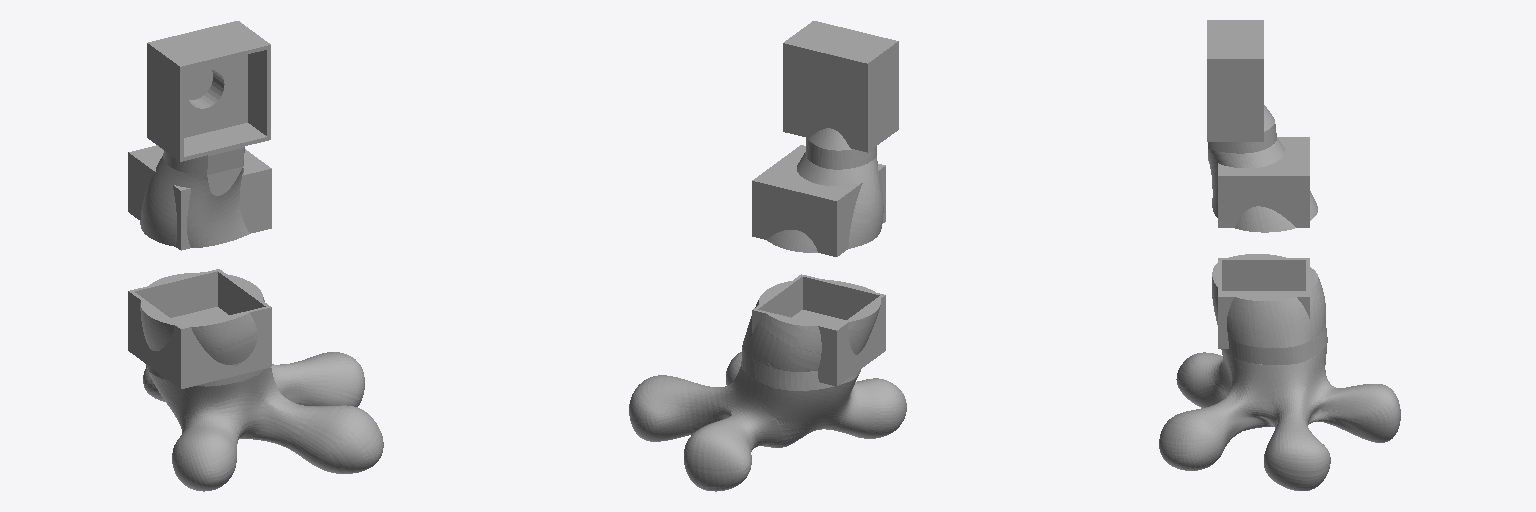
URDF robot description (FrogBot1_top-FrogBot1-y-2_bottom-FrogBot1-y-2):
<?xml version="1.0" ?>
<robot name="FrogBot1_top-FrogBot1-y-2_bottom-FrogBot1-y-2">

<material name="pla_5_percent_infill">
  <color rgba="0.700 0.700 0.700 1.000"/>
</material>

<link name="base_link">
  <inertial>
    <origin xyz="0 0 0" rpy="0 0 0"/>
    <mass value="1.4103143072721238"/>
    <inertia ixx="0.004671865419262023" iyy="0.01102984328633242" izz="0.011972094032648898" ixy="0.00015185420958179873" iyz="8.583160306759328e-05" ixz="-0.0012132770853355082"/>
  </inertial>
  <visual>
    <origin xyz="0 0 0" rpy="0 0 0"/>
    <geometry>
      <mesh filename="simple_meshes/base_link.stl" scale="0.001 0.001 0.001"/>
    </geometry>
    <material name="pla_5_percent_infill"/>
  </visual>
  <collision>
    <origin xyz="0 0 0" rpy="0 0 0"/>
    <geometry>
      <mesh filename="simple_meshes/base_link.stl" scale="0.001 0.001 0.001"/>
    </geometry>
  </collision>
</link>

<link name="body_1_0_1">
  <inertial>
    <origin xyz="-0.045735 -0.109621 -0.00462" rpy="0 0 0"/>
    <mass value="0.03484160030997429"/>
    <inertia ixx="2.903697898275757e-05" iyy="3.104325005473165e-05" izz="1.3532378195367945e-05" ixy="-4.11931829958159e-07" iyz="2.4187383565985482e-06" ixz="4.625253965977592e-07"/>
  </inertial>
  <visual>
    <origin xyz="-0.045735 -0.109621 -0.00462" rpy="0 0 0"/>
    <geometry>
      <mesh filename="simple_meshes/body_1_0_1.stl" scale="0.001 0.001 0.001"/>
    </geometry>
    <material name="pla_5_percent_infill"/>
  </visual>
  <collision>
    <origin xyz="-0.045735 -0.109621 -0.00462" rpy="0 0 0"/>
    <geometry>
      <mesh filename="simple_meshes/body_1_0_1.stl" scale="0.001 0.001 0.001"/>
    </geometry>
  </collision>
</link>

<link name="body_1_1_1">
  <inertial>
    <origin xyz="0.086489 -0.109621 -0.018802" rpy="0 0 0"/>
    <mass value="0.06148854294203133"/>
    <inertia ixx="5.855490218398588e-05" iyy="6.613275433003084e-05" izz="3.81438148724521e-05" ixy="5.75078924560735e-06" iyz="1.1027810340099209e-05" ixz="-1.7049103165392508e-05"/>
  </inertial>
  <visual>
    <origin xyz="0.086489 -0.109621 -0.018802" rpy="0 0 0"/>
    <geometry>
      <mesh filename="simple_meshes/body_1_1_1.stl" scale="0.001 0.001 0.001"/>
    </geometry>
    <material name="pla_5_percent_infill"/>
  </visual>
  <collision>
    <origin xyz="0.086489 -0.109621 -0.018802" rpy="0 0 0"/>
    <geometry>
      <mesh filename="simple_meshes/body_1_1_1.stl" scale="0.001 0.001 0.001"/>
    </geometry>
  </collision>
</link>

<link name="body_1_2_1">
  <inertial>
    <origin xyz="-0.040267 0.109621 -0.027764" rpy="0 0 0"/>
    <mass value="0.046522195302190976"/>
    <inertia ixx="6.03733340548251e-05" iyy="5.952994351581645e-05" izz="2.1298690794725782e-05" ixy="5.754947808993033e-07" iyz="-1.1443405405403087e-05" ixz="-1.6904263786305624e-07"/>
  </inertial>
  <visual>
    <origin xyz="-0.040267 0.109621 -0.027764" rpy="0 0 0"/>
    <geometry>
      <mesh filename="simple_meshes/body_1_2_1.stl" scale="0.001 0.001 0.001"/>
    </geometry>
    <material name="pla_5_percent_infill"/>
  </visual>
  <collision>
    <origin xyz="-0.040267 0.109621 -0.027764" rpy="0 0 0"/>
    <geometry>
      <mesh filename="simple_meshes/body_1_2_1.stl" scale="0.001 0.001 0.001"/>
    </geometry>
  </collision>
</link>

<link name="body_1_3_1">
  <inertial>
    <origin xyz="0.090407 0.109621 -0.022193" rpy="0 0 0"/>
    <mass value="0.06334451829429341"/>
    <inertia ixx="6.51772427705062e-05" iyy="7.495684636025872e-05" izz="4.2780508319036244e-05" ixy="-7.128956469788263e-06" iyz="-1.3523874840459988e-05" ixz="-2.071422252416895e-05"/>
  </inertial>
  <visual>
    <origin xyz="0.090407 0.109621 -0.022193" rpy="0 0 0"/>
    <geometry>
      <mesh filename="simple_meshes/body_1_3_1.stl" scale="0.001 0.001 0.001"/>
    </geometry>
    <material name="pla_5_percent_infill"/>
  </visual>
  <collision>
    <origin xyz="0.090407 0.109621 -0.022193" rpy="0 0 0"/>
    <geometry>
      <mesh filename="simple_meshes/body_1_3_1.stl" scale="0.001 0.001 0.001"/>
    </geometry>
  </collision>
</link>

<link name="body_2_0_1">
  <inertial>
    <origin xyz="-0.049562 -0.159797 0.085064" rpy="0 0 0"/>
    <mass value="0.09238338507746115"/>
    <inertia ixx="9.680433658144048e-05" iyy="0.00010692101717365123" izz="0.00012948061318948483" ixy="-4.585259395726779e-06" iyz="-1.2914344639219227e-06" ixz="2.3453652289436543e-05"/>
  </inertial>
  <visual>
    <origin xyz="-0.049562 -0.159797 0.085064" rpy="0 0 0"/>
    <geometry>
      <mesh filename="simple_meshes/body_2_0_1.stl" scale="0.001 0.001 0.001"/>
    </geometry>
    <material name="pla_5_percent_infill"/>
  </visual>
  <collision>
    <origin xyz="-0.049562 -0.159797 0.085064" rpy="0 0 0"/>
    <geometry>
      <mesh filename="simple_meshes/body_2_0_1.stl" scale="0.001 0.001 0.001"/>
    </geometry>
  </collision>
</link>

<link name="body_2_1_1">
  <inertial>
    <origin xyz="0.121182 -0.173952 0.085064" rpy="0 0 0"/>
    <mass value="0.09715254191378893"/>
    <inertia ixx="0.00010103337875760465" iyy="0.00010812583804075153" izz="0.00013283976961591445" ixy="1.682015658884808e-06" iyz="1.4158771556950066e-05" ixz="2.864226009702416e-05"/>
  </inertial>
  <visual>
    <origin xyz="0.121182 -0.173952 0.085064" rpy="0 0 0"/>
    <geometry>
      <mesh filename="simple_meshes/body_2_1_1.stl" scale="0.001 0.001 0.001"/>
    </geometry>
    <material name="pla_5_percent_infill"/>
  </visual>
  <collision>
    <origin xyz="0.121182 -0.173952 0.085064" rpy="0 0 0"/>
    <geometry>
      <mesh filename="simple_meshes/body_2_1_1.stl" scale="0.001 0.001 0.001"/>
    </geometry>
  </collision>
</link>

<link name="body_2_2_1">
  <inertial>
    <origin xyz="-0.04311 0.170506 0.085064" rpy="0 0 0"/>
    <mass value="0.09423382627998292"/>
    <inertia ixx="0.0001057891791990213" iyy="9.824815309707104e-05" izz="0.00013224377354452638" ixy="9.104081632083268e-07" iyz="-6.2243797675221035e-06" ixz="1.652673795358333e-05"/>
  </inertial>
  <visual>
    <origin xyz="-0.04311 0.170506 0.085064" rpy="0 0 0"/>
    <geometry>
      <mesh filename="simple_meshes/body_2_2_1.stl" scale="0.001 0.001 0.001"/>
    </geometry>
    <material name="pla_5_percent_infill"/>
  </visual>
  <collision>
    <origin xyz="-0.04311 0.170506 0.085064" rpy="0 0 0"/>
    <geometry>
      <mesh filename="simple_meshes/body_2_2_1.stl" scale="0.001 0.001 0.001"/>
    </geometry>
  </collision>
</link>

<link name="body_2_3_1">
  <inertial>
    <origin xyz="0.129712 0.175384 0.085064" rpy="0 0 0"/>
    <mass value="0.09538323554010072"/>
    <inertia ixx="0.00010818954833316866" iyy="0.0001026460488982384" izz="0.0001233985078477563" ixy="4.960638871788839e-06" iyz="-1.988995231707322e-05" ixz="2.8267705788044984e-05"/>
  </inertial>
  <visual>
    <origin xyz="0.129712 0.175384 0.085064" rpy="0 0 0"/>
    <geometry>
      <mesh filename="simple_meshes/body_2_3_1.stl" scale="0.001 0.001 0.001"/>
    </geometry>
    <material name="pla_5_percent_infill"/>
  </visual>
  <collision>
    <origin xyz="0.129712 0.175384 0.085064" rpy="0 0 0"/>
    <geometry>
      <mesh filename="simple_meshes/body_2_3_1.stl" scale="0.001 0.001 0.001"/>
    </geometry>
  </collision>
</link>

<joint name="joint_1_0" type="revolute">
  <origin xyz="0.045735 0.109621 0.00462" rpy="0 0 0"/>
  <parent link="base_link"/>
  <child link="body_1_0_1"/>
  <axis xyz="0.0 0.0 -1.0"/>
  <limit upper="1.2" lower="-1.2" effort="3.8" velocity="5.4"/>
</joint>
<transmission name="joint_1_0_tran">
  <type>transmission_interface/SimpleTransmission</type>
  <joint name="joint_1_0">
    <hardwareInterface>PositionJointInterface</hardwareInterface>
  </joint>
  <actuator name="joint_1_0_actr">
    <hardwareInterface>PositionJointInterface</hardwareInterface>
    <mechanicalReduction>1</mechanicalReduction>
  </actuator>
</transmission>

<joint name="joint_1_1" type="revolute">
  <origin xyz="-0.086489 0.109621 0.018802" rpy="0 0 0"/>
  <parent link="base_link"/>
  <child link="body_1_1_1"/>
  <axis xyz="0.0 0.0 -1.0"/>
  <limit upper="1.2" lower="-1.2" effort="3.8" velocity="5.4"/>
</joint>
<transmission name="joint_1_1_tran">
  <type>transmission_interface/SimpleTransmission</type>
  <joint name="joint_1_1">
    <hardwareInterface>PositionJointInterface</hardwareInterface>
  </joint>
  <actuator name="joint_1_1_actr">
    <hardwareInterface>PositionJointInterface</hardwareInterface>
    <mechanicalReduction>1</mechanicalReduction>
  </actuator>
</transmission>

<joint name="joint_1_2" type="revolute">
  <origin xyz="0.040267 -0.109621 0.027764" rpy="0 0 0"/>
  <parent link="base_link"/>
  <child link="body_1_2_1"/>
  <axis xyz="0.0 0.0 -1.0"/>
  <limit upper="1.2" lower="-1.2" effort="3.8" velocity="5.4"/>
</joint>
<transmission name="joint_1_2_tran">
  <type>transmission_interface/SimpleTransmission</type>
  <joint name="joint_1_2">
    <hardwareInterface>PositionJointInterface</hardwareInterface>
  </joint>
  <actuator name="joint_1_2_actr">
    <hardwareInterface>PositionJointInterface</hardwareInterface>
    <mechanicalReduction>1</mechanicalReduction>
  </actuator>
</transmission>

<joint name="joint_1_3" type="revolute">
  <origin xyz="-0.090407 -0.109621 0.022193" rpy="0 0 0"/>
  <parent link="base_link"/>
  <child link="body_1_3_1"/>
  <axis xyz="0.0 0.0 -1.0"/>
  <limit upper="1.2" lower="-1.2" effort="3.8" velocity="5.4"/>
</joint>
<transmission name="joint_1_3_tran">
  <type>transmission_interface/SimpleTransmission</type>
  <joint name="joint_1_3">
    <hardwareInterface>PositionJointInterface</hardwareInterface>
  </joint>
  <actuator name="joint_1_3_actr">
    <hardwareInterface>PositionJointInterface</hardwareInterface>
    <mechanicalReduction>1</mechanicalReduction>
  </actuator>
</transmission>

<joint name="joint_2_0" type="revolute">
  <origin xyz="0.003827 0.050176 -0.089684" rpy="0 0 0"/>
  <parent link="body_1_0_1"/>
  <child link="body_2_0_1"/>
  <axis xyz="0.0 1.0 0.0"/>
  <limit upper="1.2" lower="-1.2" effort="3.8" velocity="5.4"/>
</joint>
<transmission name="joint_2_0_tran">
  <type>transmission_interface/SimpleTransmission</type>
  <joint name="joint_2_0">
    <hardwareInterface>PositionJointInterface</hardwareInterface>
  </joint>
  <actuator name="joint_2_0_actr">
    <hardwareInterface>PositionJointInterface</hardwareInterface>
    <mechanicalReduction>1</mechanicalReduction>
  </actuator>
</transmission>

<joint name="joint_2_1" type="revolute">
  <origin xyz="-0.034693 0.064331 -0.103866" rpy="0 0 0"/>
  <parent link="body_1_1_1"/>
  <child link="body_2_1_1"/>
  <axis xyz="0.0 1.0 0.0"/>
  <limit upper="1.2" lower="-1.2" effort="3.8" velocity="5.4"/>
</joint>
<transmission name="joint_2_1_tran">
  <type>transmission_interface/SimpleTransmission</type>
  <joint name="joint_2_1">
    <hardwareInterface>PositionJointInterface</hardwareInterface>
  </joint>
  <actuator name="joint_2_1_actr">
    <hardwareInterface>PositionJointInterface</hardwareInterface>
    <mechanicalReduction>1</mechanicalReduction>
  </actuator>
</transmission>

<joint name="joint_2_2" type="revolute">
  <origin xyz="0.002843 -0.060885 -0.112828" rpy="0 0 0"/>
  <parent link="body_1_2_1"/>
  <child link="body_2_2_1"/>
  <axis xyz="0.0 1.0 0.0"/>
  <limit upper="1.2" lower="-1.2" effort="3.8" velocity="5.4"/>
</joint>
<transmission name="joint_2_2_tran">
  <type>transmission_interface/SimpleTransmission</type>
  <joint name="joint_2_2">
    <hardwareInterface>PositionJointInterface</hardwareInterface>
  </joint>
  <actuator name="joint_2_2_actr">
    <hardwareInterface>PositionJointInterface</hardwareInterface>
    <mechanicalReduction>1</mechanicalReduction>
  </actuator>
</transmission>

<joint name="joint_2_3" type="revolute">
  <origin xyz="-0.039305 -0.065763 -0.107257" rpy="0 0 0"/>
  <parent link="body_1_3_1"/>
  <child link="body_2_3_1"/>
  <axis xyz="0.0 1.0 0.0"/>
  <limit upper="1.2" lower="-1.2" effort="3.8" velocity="5.4"/>
</joint>
<transmission name="joint_2_3_tran">
  <type>transmission_interface/SimpleTransmission</type>
  <joint name="joint_2_3">
    <hardwareInterface>PositionJointInterface</hardwareInterface>
  </joint>
  <actuator name="joint_2_3_actr">
    <hardwareInterface>PositionJointInterface</hardwareInterface>
    <mechanicalReduction>1</mechanicalReduction>
  </actuator>
</transmission>

</robot>

--- Render facts (derived) ---
Views: 3 orthographic renders of the robot side by side, from view 1: azimuth 30°, elevation 25°; view 2: azimuth 150°, elevation 25°; view 3: azimuth 270°, elevation 25°.
Model FrogBot1_top-FrogBot1-y-2_bottom-FrogBot1-y-2 with 9 links and 8 joints (8 revolute), rooted at base_link, posed every joint at zero.
Links seen in each view (by area): view 1: body_2_0_1, body_1_0_1; view 2: body_2_0_1, body_1_0_1; view 3: body_2_0_1, body_1_0_1.
Link boxes in pixels (x1,y1,x2,y2): body_2_0_1: [128, 269, 383, 491]; body_1_0_1: [128, 21, 271, 250]; body_2_0_1: [629, 274, 906, 491]; body_1_0_1: [752, 21, 898, 256]; body_2_0_1: [1159, 254, 1400, 490]; body_1_0_1: [1207, 20, 1317, 232].
Bounding box of the posed robot: 0.1248 × 0.1278 × 0.2221 m (x, y, z).
2 mesh visuals loaded from 9 distinct referenced files (2 binary STL); not drawn: 7 (reference not matched to a file when rendering).